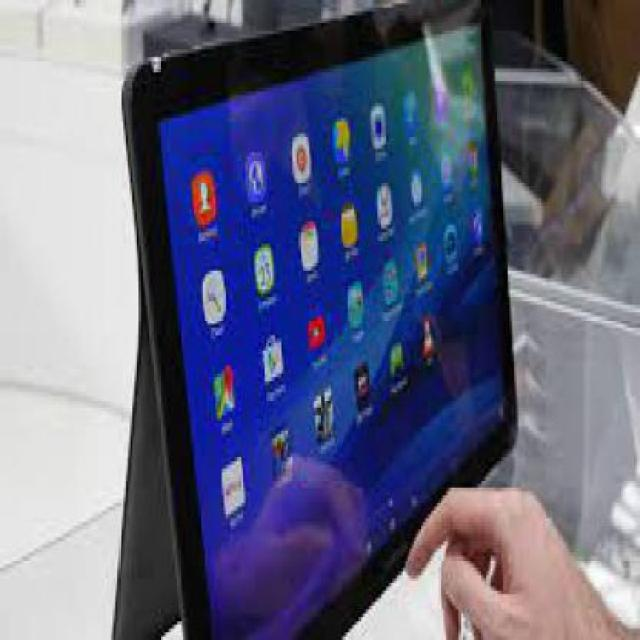tablet: (63, 36, 593, 602)
